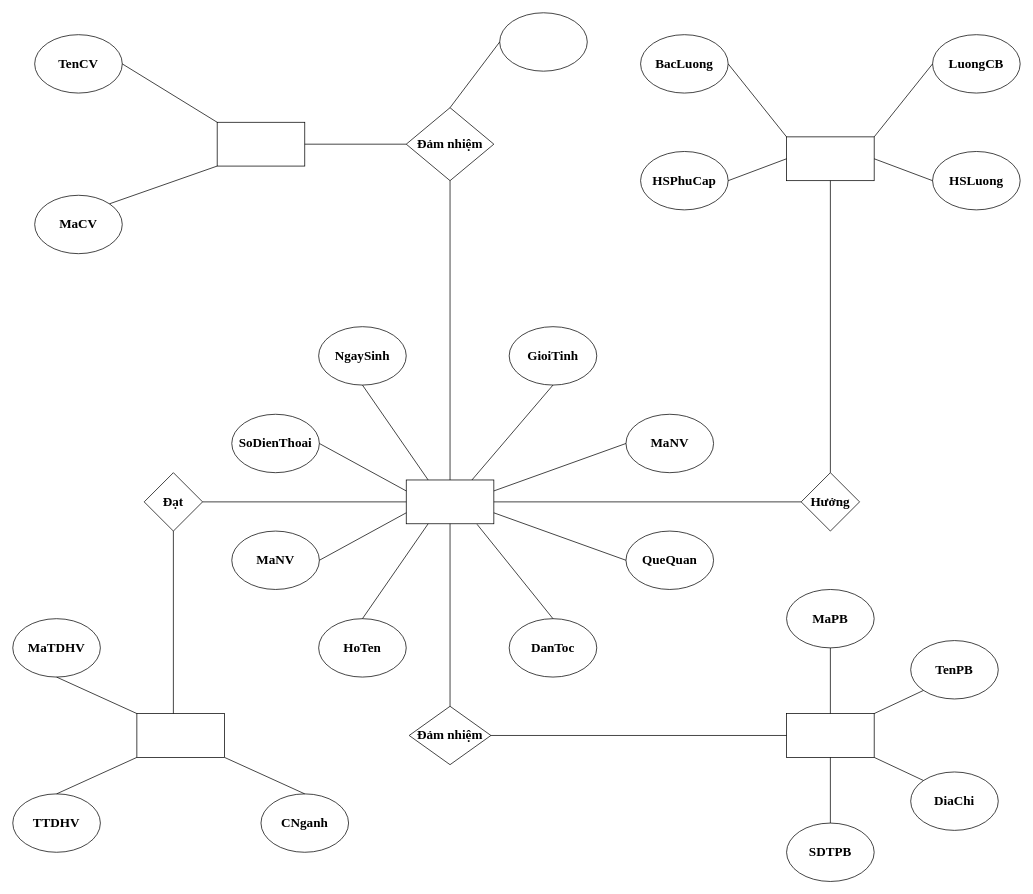
Image size: 1033x894. Some labels were removed from this diagram. The shapes that lost their labels are listed below. From the top down, each one's box as (x1, y1, x2, y2) in pixels, then its label:
(499, 12, 587, 71): HOP DONG LAO DONG
(216, 122, 305, 166): CHUCVU
(786, 136, 874, 181): Lương
(406, 479, 494, 524): NHAN VIEN
(136, 713, 224, 757): TRINH DO HOC VAN
(786, 713, 874, 757): PHONG BAN
